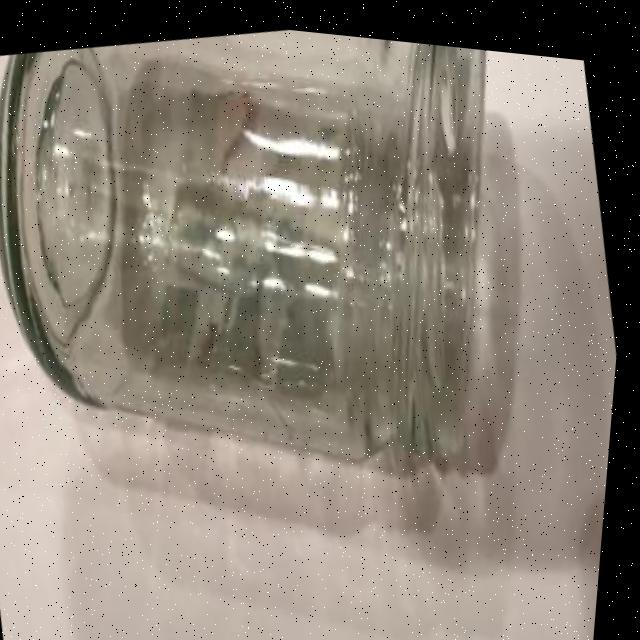glass: (0, 0, 570, 569)
